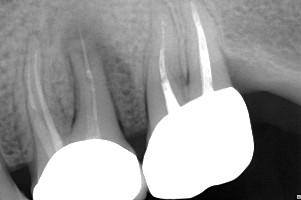Dental Caries: (57, 11, 148, 138)
